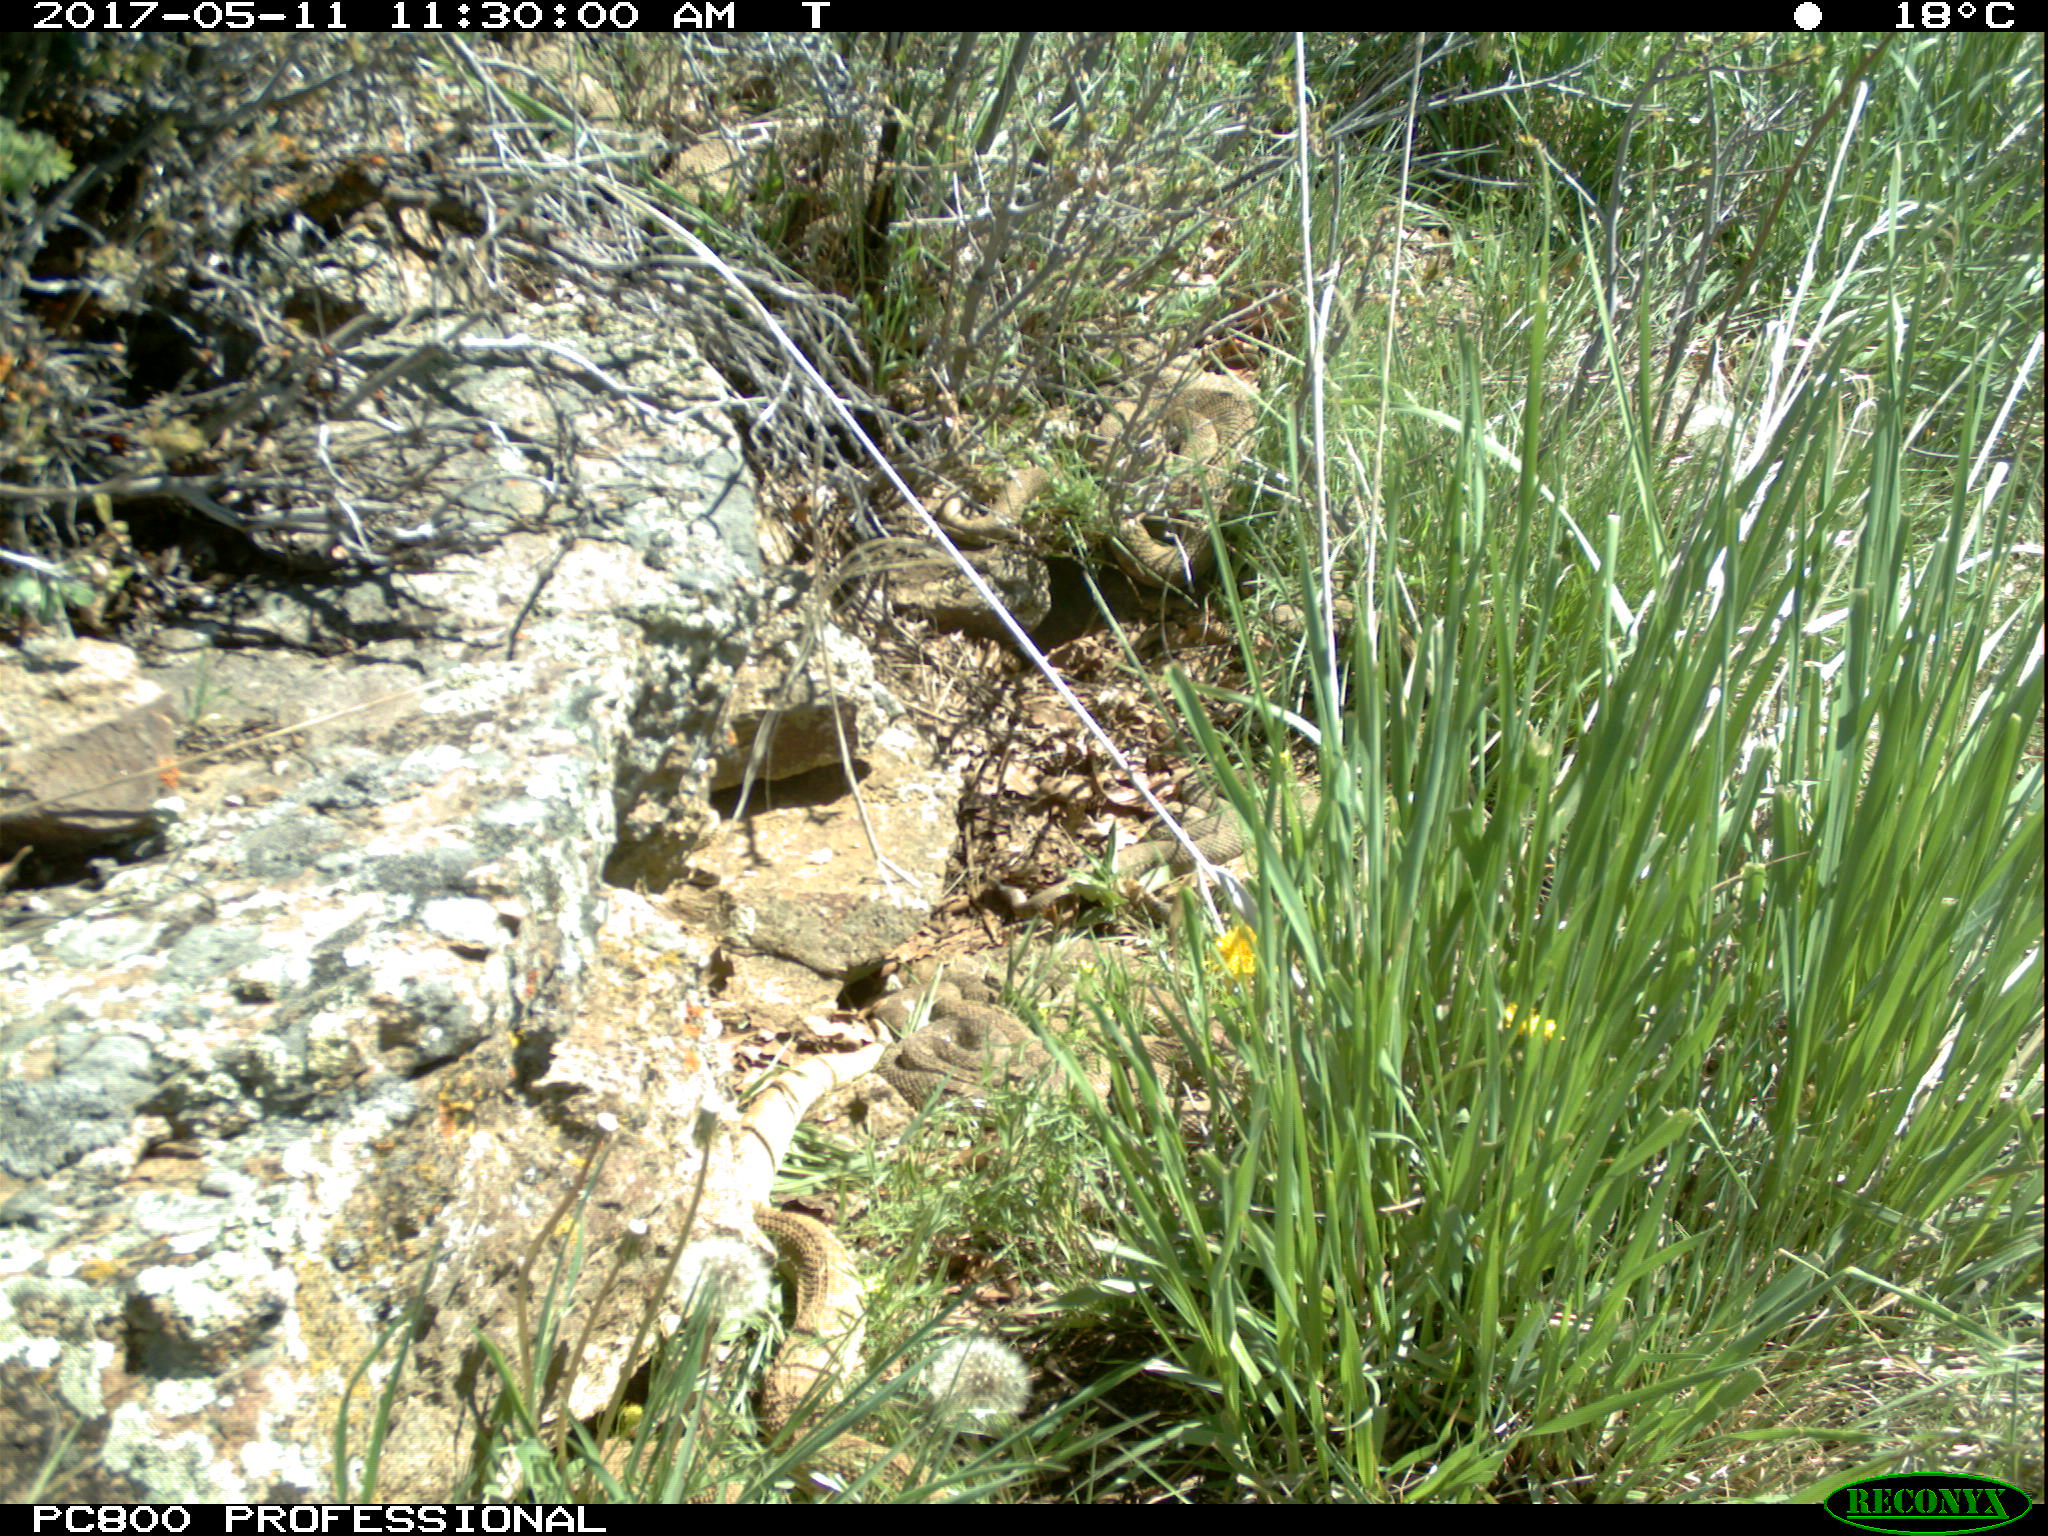snake: (751, 1207, 939, 1501), (980, 779, 1319, 921), (1093, 363, 1261, 587), (861, 987, 1068, 1107), (932, 458, 1080, 532)
